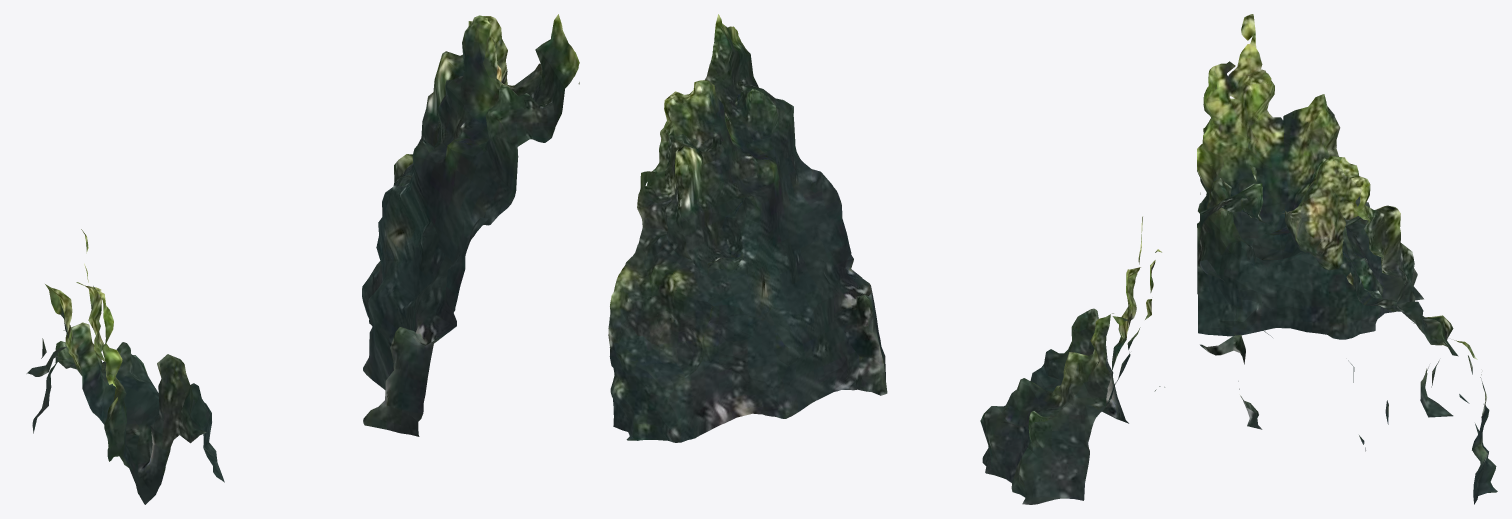
Rendered from Tile_+006_+007_L22_0002170.glb.
3 renders of one model, left to right at view 1: azimuth 30°, elevation 25°; view 2: azimuth 150°, elevation 25°; view 3: azimuth 270°, elevation 25°, orthographic. The views are drawn at different scales.
Visible parts, largest first — view 1: rtc; view 2: rtc; view 3: rtc.
Part boxes in pixels (x1,y1,x2,y2): rtc: (26,14,579,504); rtc: (608,14,1164,504); rtc: (1197,14,1497,504).
Size of the model in its own units: 8.84 by 6.56 by 4.9.
Materials: 1 (1 with a texture image).
